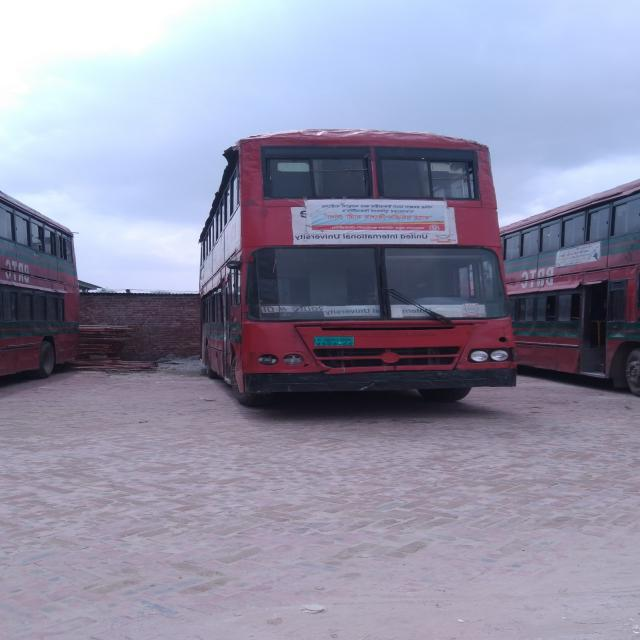Double decker: (180, 110, 541, 428), (420, 152, 640, 405), (1, 174, 98, 425)
